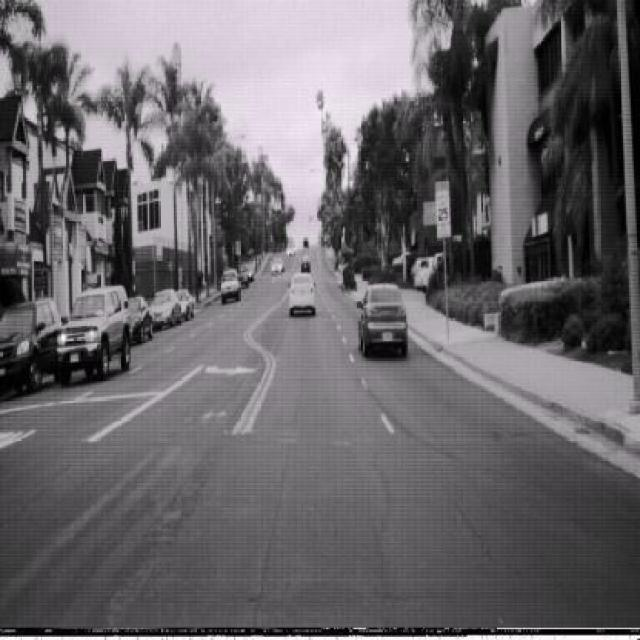schoolSpeedLimit25: (436, 180, 452, 240)
